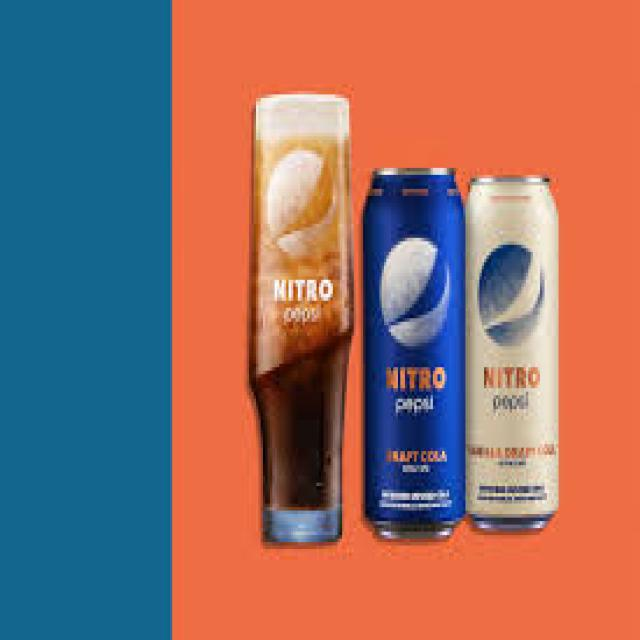Cans: (358, 161, 472, 556), (465, 158, 568, 546)
